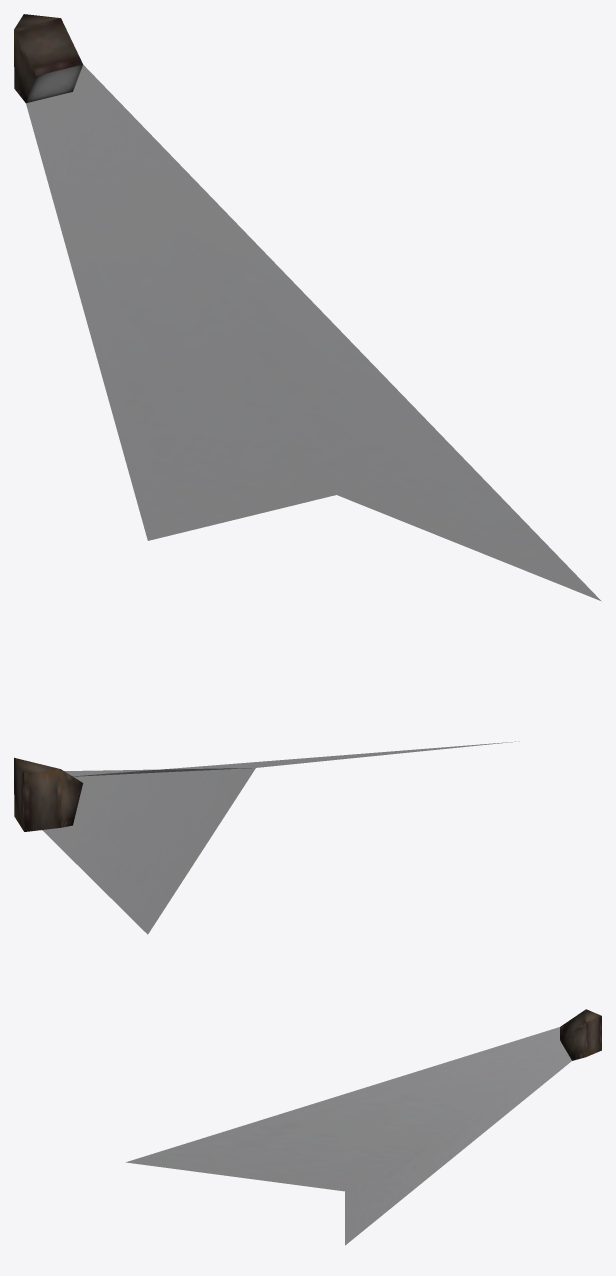
Rendered from prop-065.glb.
3 renders of one model, top to bottom at view 1: azimuth 30°, elevation 25°; view 2: azimuth 150°, elevation 25°; view 3: azimuth 270°, elevation 25°, orthographic. The views are drawn at different scales.
Visible parts, largest first — view 1: root; view 2: root; view 3: root.
Boxes of the visible parts, x1,y1,x2,y2 form: root: (14, 14, 600, 600); root: (14, 741, 515, 934); root: (126, 1009, 601, 1245).
Bounding box in the file's own units: 1.48 × 1.41 × 3.7.
Materials: 2 (2 with a texture image).
